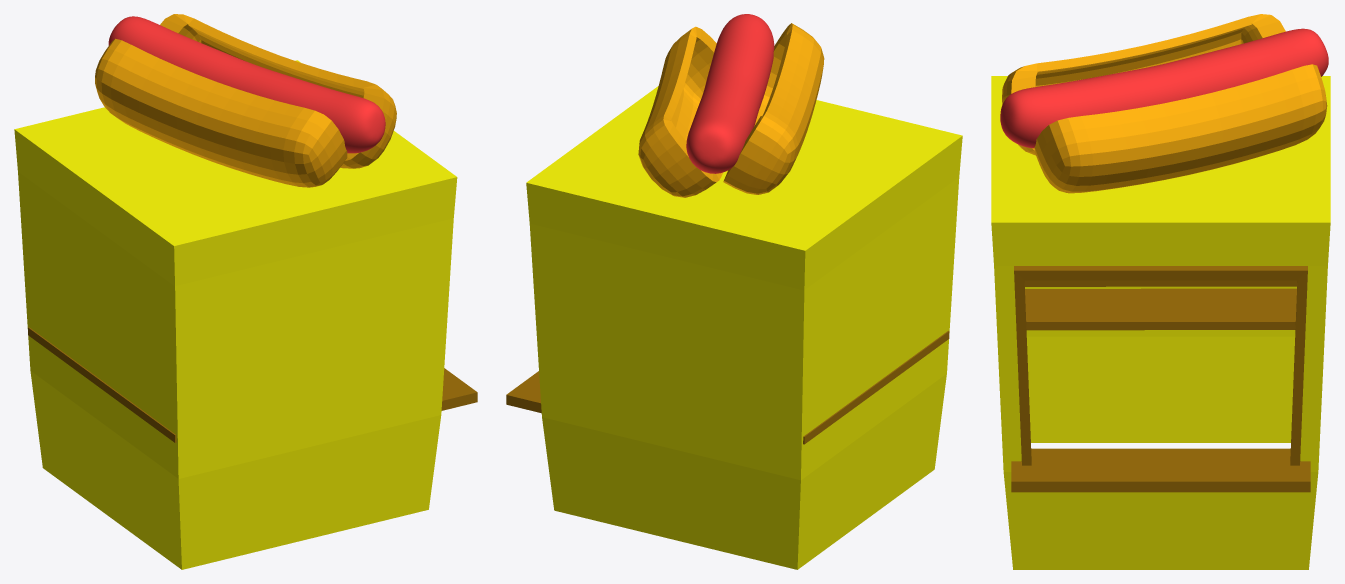
Rendered from hotDog.fbx.
3 renders of one model, left to right at view 1: azimuth 30°, elevation 25°; view 2: azimuth 150°, elevation 25°; view 3: azimuth 270°, elevation 25°, orthographic. The views are drawn at different scales.
Parts seen in each view (by area): view 1: barracaUm, Cube, barraTres.001; view 2: barracaUm, Cube, barraTres.001; view 3: barracaUm, Cube, barraTres.001.
Part boxes in pixels (x1,y1,x2,y2): barracaUm: (14,60,477,569); Cube: (95,14,396,187); barraTres.001: (28,327,176,442); barracaUm: (506,86,962,569); Cube: (638,14,824,197); barraTres.001: (803,330,949,444); barracaUm: (991,76,1330,569); Cube: (1000,14,1328,193); barraTres.001: (1024,280,1297,330).
Size of the model in its own units: 161 by 211 by 142.
